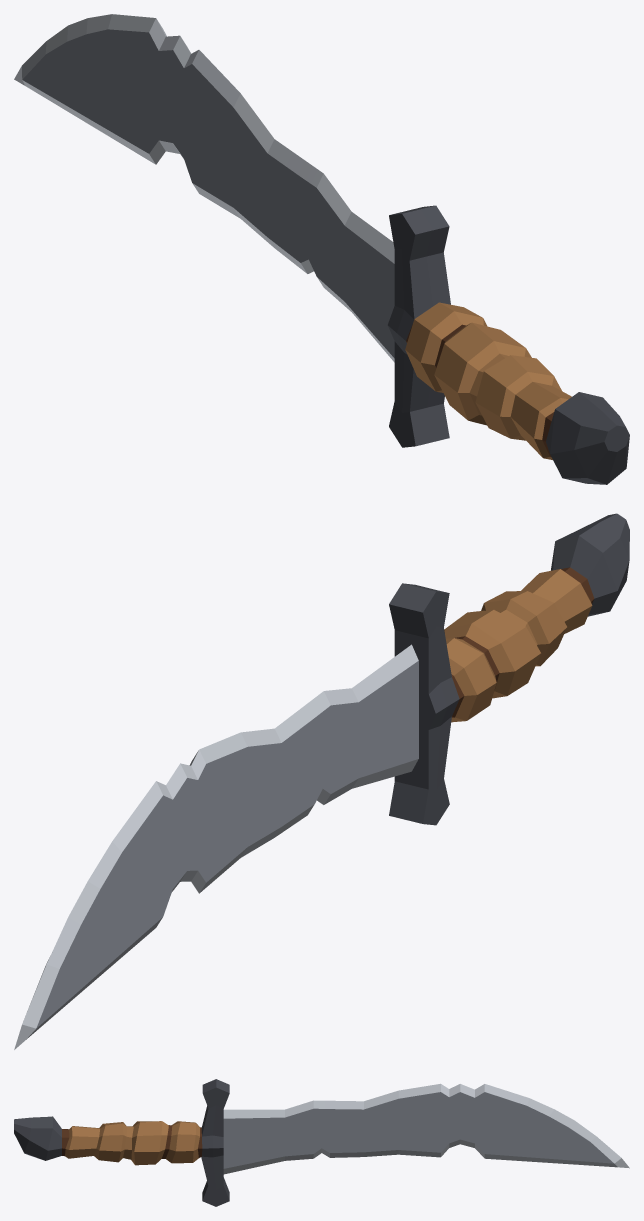
File: melee.dagger.glb
The picture shows the model from 3 angles, top to bottom: view 1: azimuth 30°, elevation 25°; view 2: azimuth 150°, elevation 25°; view 3: azimuth 270°, elevation 25°; orthographic projection. The views are drawn at different scales.
Visible parts, largest first — view 1: melee.dagger; view 2: melee.dagger; view 3: melee.dagger.
Part boxes in pixels (x1=…): melee.dagger: x1=14, y1=14, x2=629, y2=484; melee.dagger: x1=14, y1=513, x2=629, y2=1049; melee.dagger: x1=14, y1=1079, x2=629, y2=1206.
Size of the model in its own units: 0.0303 by 0.0813 by 0.38.
